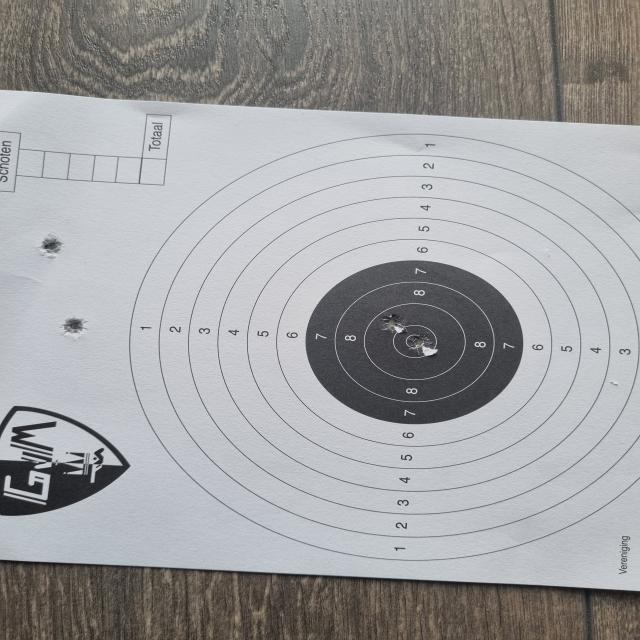0: (63, 317, 88, 334), (39, 237, 61, 255)
10: (409, 333, 431, 354), (380, 314, 403, 334)
Target: (130, 132, 640, 560)
